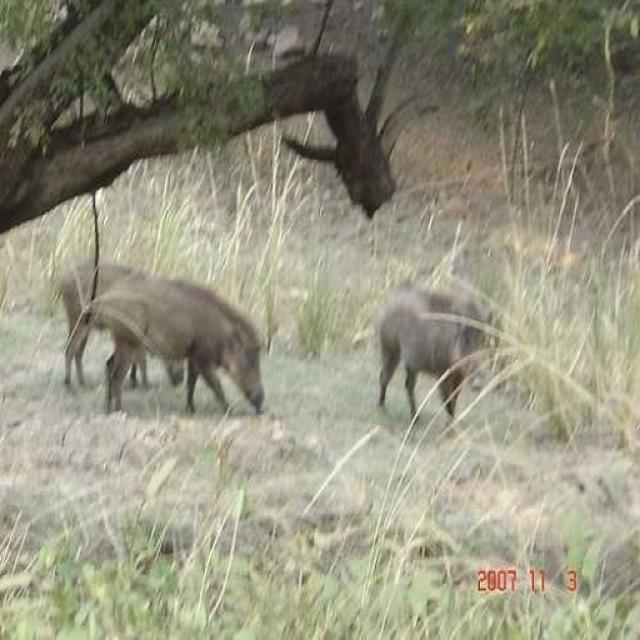pig: (104, 268, 265, 433), (371, 292, 534, 440)
